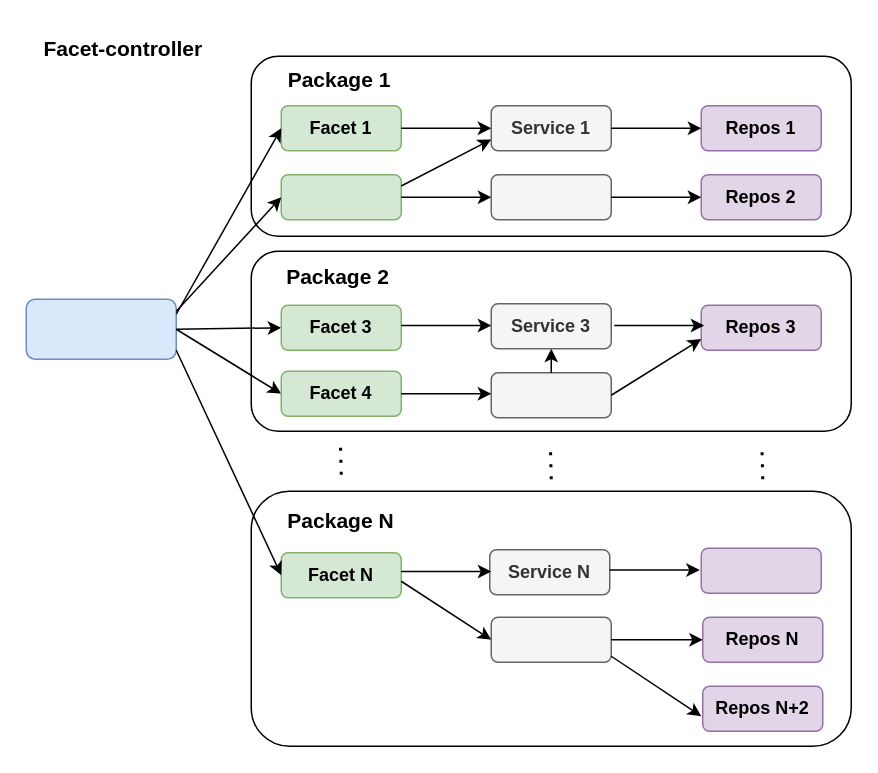
Some shapes in this 878 by 773 pixel diagram are drawn without their labels. Each missing label, with the centre of its shape:
Diamond Proxy: (100,328)
Facet 2: (340,196)
Repos N+1: (760,570)
Service 2: (550,196)
Service 4: (550,394)
Service N+1: (550,639)
